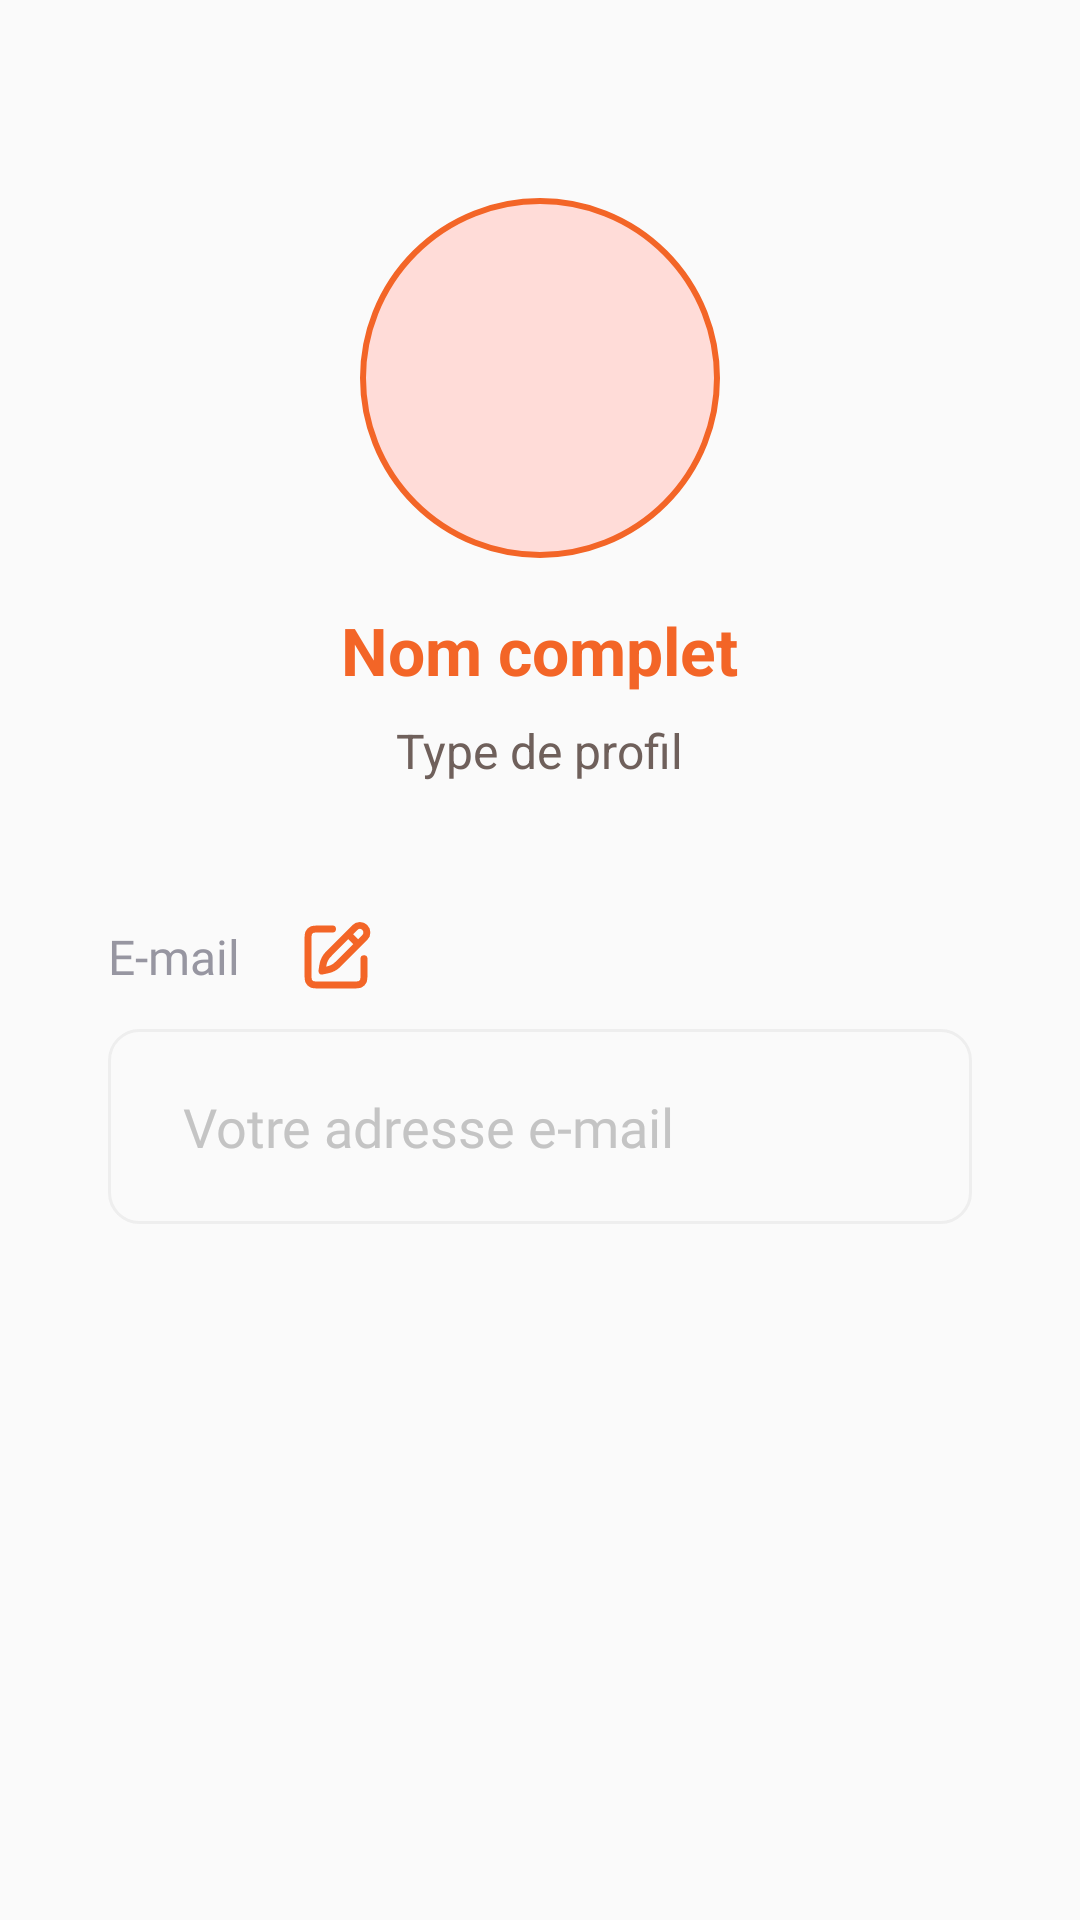

Icons on this 1080x1920 Android screen, each with its box as (x1, y1, x2, y2):
pen square: (304, 922, 371, 989)
